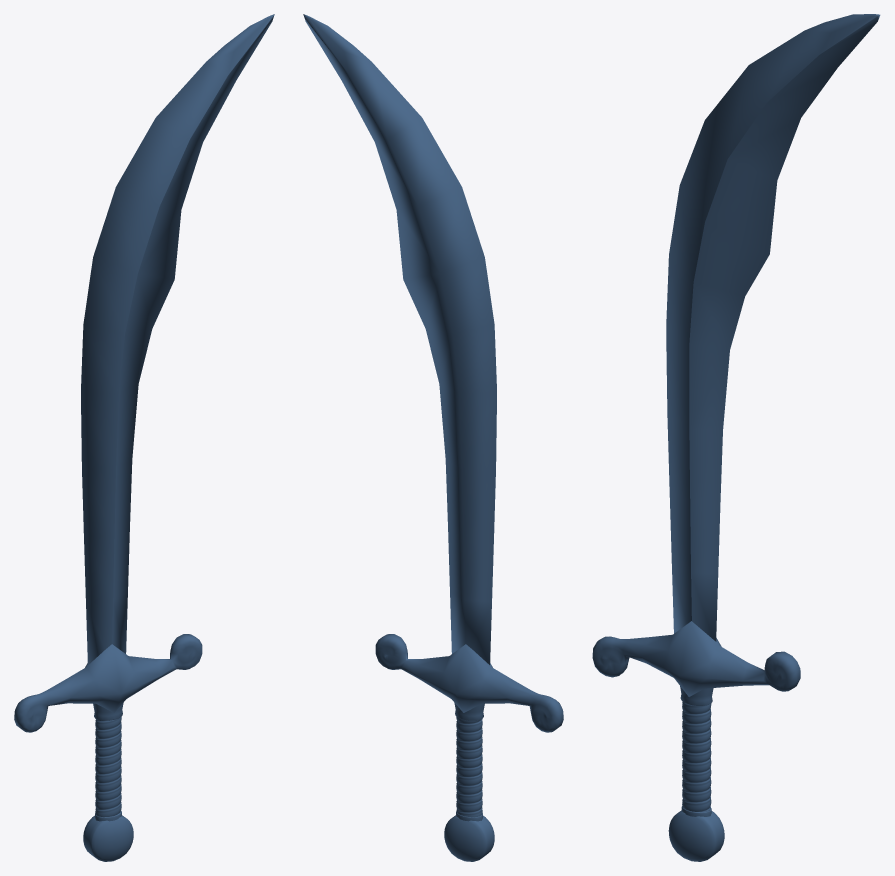
The model's file is FenecScimitar.fbx.
3 renders of one model, left to right at view 1: azimuth 30°, elevation 25°; view 2: azimuth 150°, elevation 25°; view 3: azimuth 330°, elevation 25°, orthographic. The views are drawn at different scales.
Parts seen in each view (by area): view 1: FenecScimitar; view 2: FenecScimitar; view 3: FenecScimitar.
Boxes of the visible parts, <box> form: FenecScimitar: <box>14,14,274,861</box>; FenecScimitar: <box>303,14,563,861</box>; FenecScimitar: <box>592,14,880,861</box>.
Bounding box in the file's own units: 30.56 × 90.74 × 5.82.
